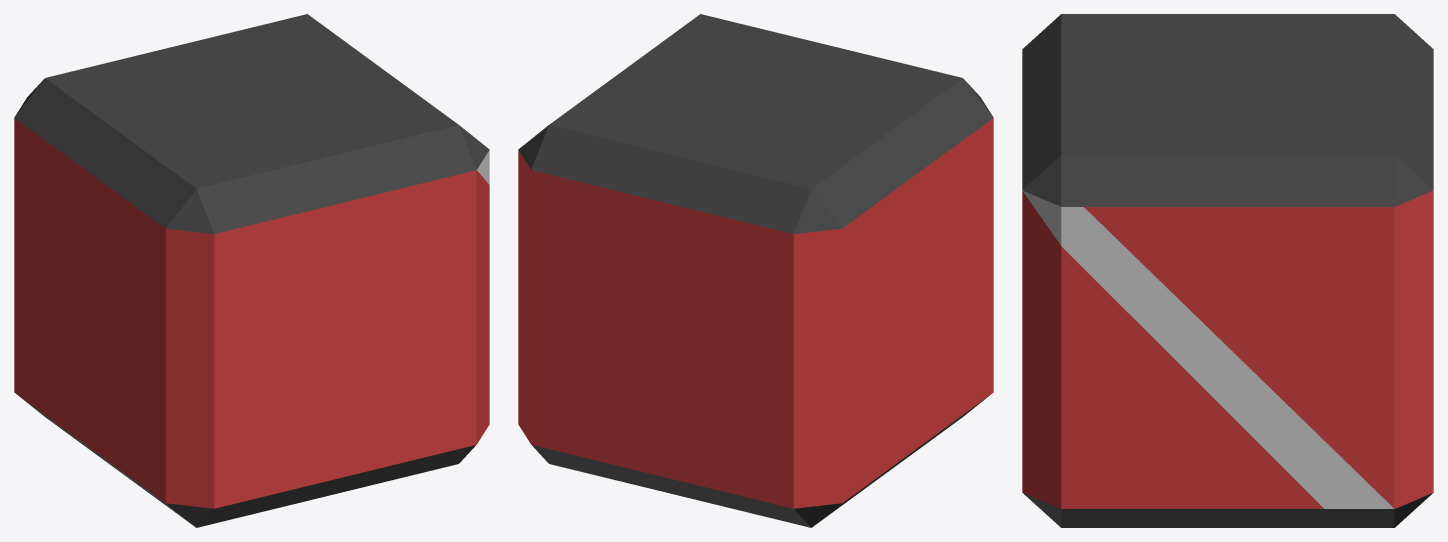
File: BigCase6.fbx
3 views of the same model, side by side, from view 1: azimuth 30°, elevation 25°; view 2: azimuth 150°, elevation 25°; view 3: azimuth 270°, elevation 25° (orthographic). The views are drawn at different scales.
Parts seen in each view (by area): view 1: Cube.038; view 2: Cube.038; view 3: Cube.038.
Boxes of the visible parts, <box> form: Cube.038: <box>14,14,489,527</box>; Cube.038: <box>518,14,993,527</box>; Cube.038: <box>1022,14,1433,527</box>.
Bounding box in the file's own units: 72.28 × 72.28 × 72.28.
